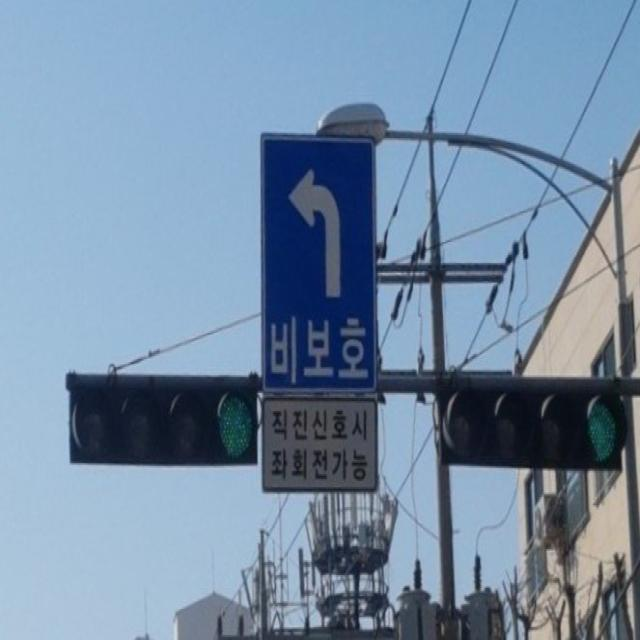Green Light: (581, 379, 627, 473), (214, 381, 256, 464)
